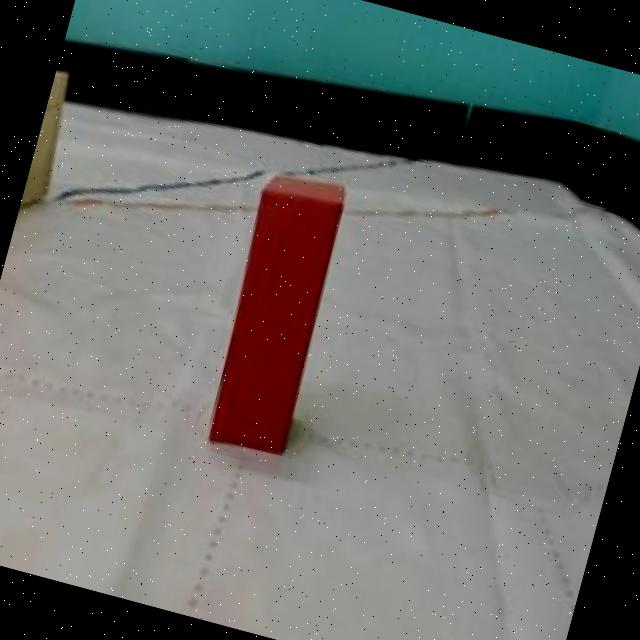redbox: (195, 166, 354, 461)
